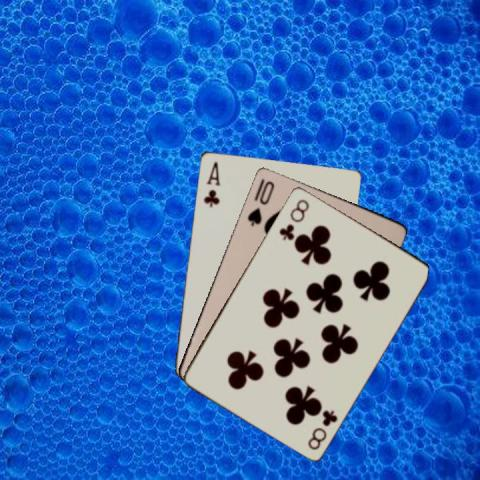10s: (244, 177, 276, 227)
8c: (276, 196, 311, 242), (305, 406, 339, 451)
Ac: (200, 158, 221, 209)
